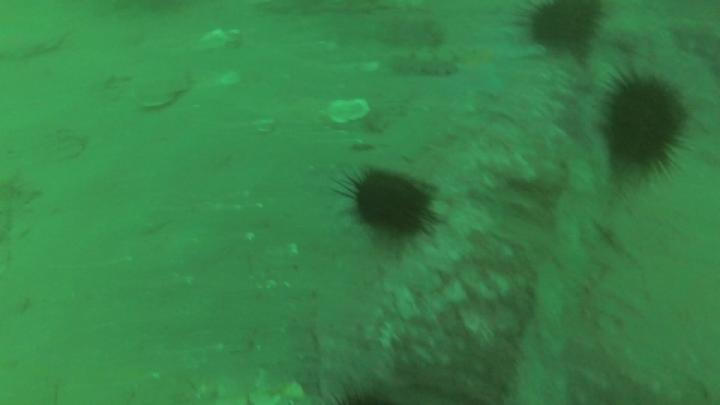echinus: (609, 80, 685, 170), (354, 170, 431, 234), (531, 2, 603, 50)
holothurian: (393, 57, 457, 80)
